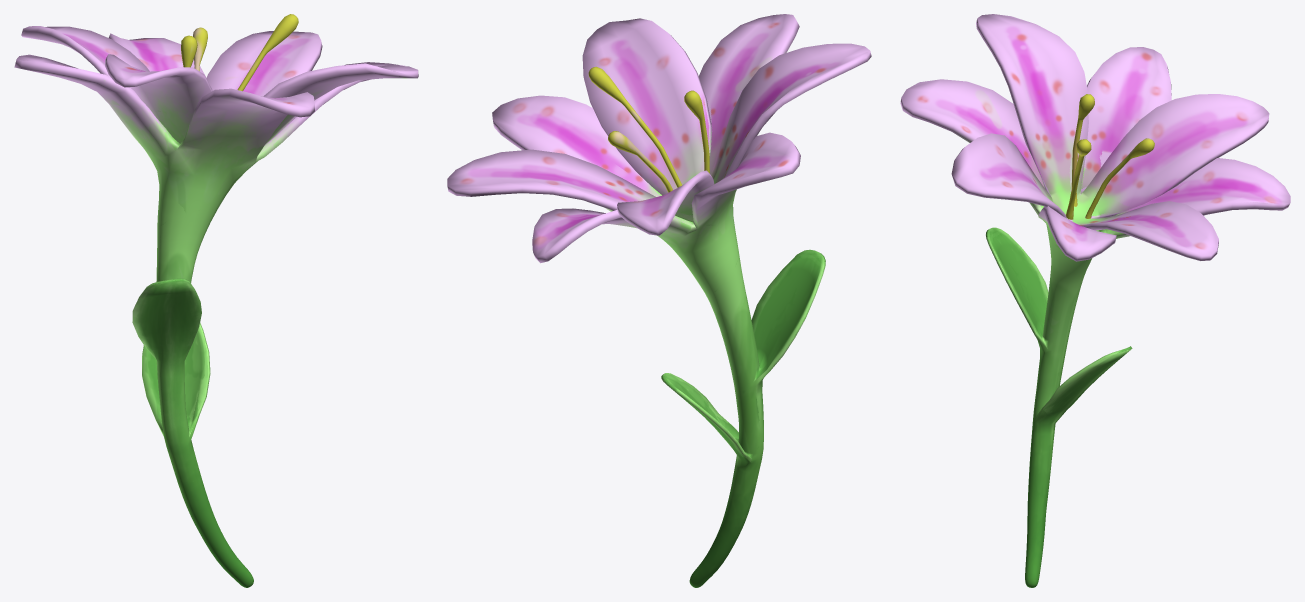
Rendered from FLOWE.fbx.
3 renders of one model, left to right at view 1: azimuth 30°, elevation 25°; view 2: azimuth 150°, elevation 25°; view 3: azimuth 270°, elevation 25°, orthographic. The views are drawn at different scales.
Parts seen in each view (by area): view 1: ant1.001; view 2: ant1.001; view 3: ant1.001.
Part boxes in pixels (bbox=[...]): ant1.001: bbox=[14, 14, 418, 587]; ant1.001: bbox=[447, 14, 871, 587]; ant1.001: bbox=[900, 14, 1290, 587].
Size of the model in its own units: 235 by 364 by 254.
Materials: 1 (1 with a texture image).
